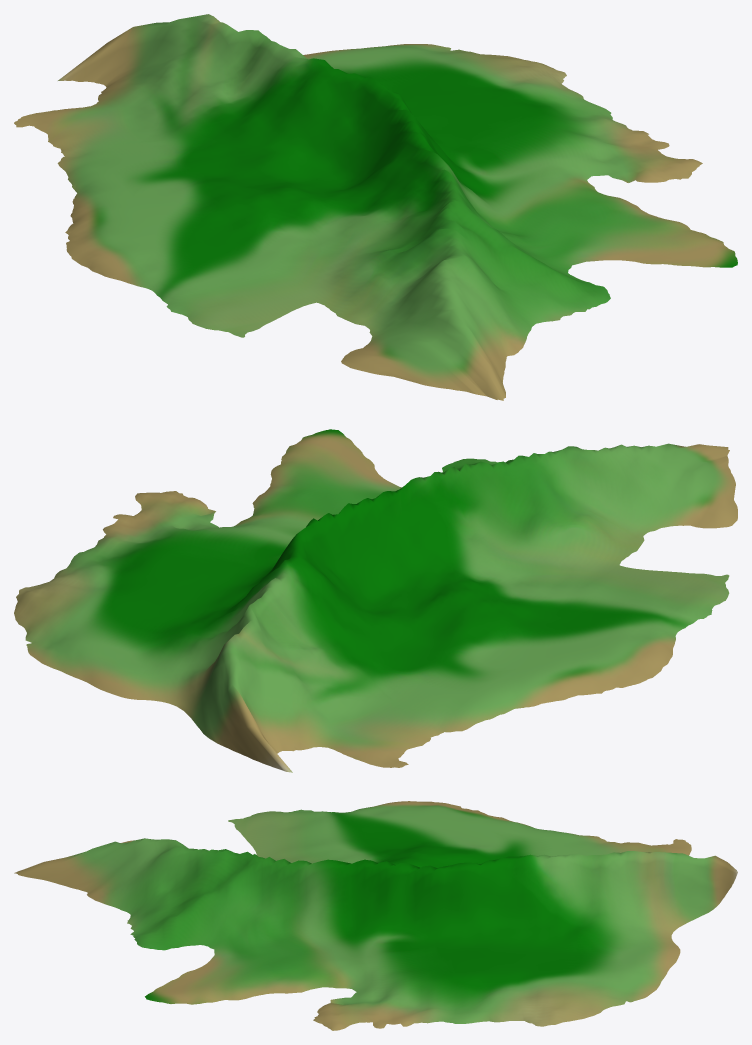
File: Landscape.obj
3 renders of one model, top to bottom at view 1: azimuth 30°, elevation 25°; view 2: azimuth 150°, elevation 25°; view 3: azimuth 270°, elevation 25°, orthographic. The views are drawn at different scales.
Visible parts, largest first — view 1: Terrain_Landscape.001; view 2: Terrain_Landscape.001; view 3: Terrain_Landscape.001.
Part boxes in pixels (x1,y1,x2,y2): Terrain_Landscape.001: [14, 14, 737, 400]; Terrain_Landscape.001: [14, 429, 737, 772]; Terrain_Landscape.001: [14, 801, 737, 1030].
Size of what is drawn, in the model's own units: 6.48 by 0.9666 by 8.64.
